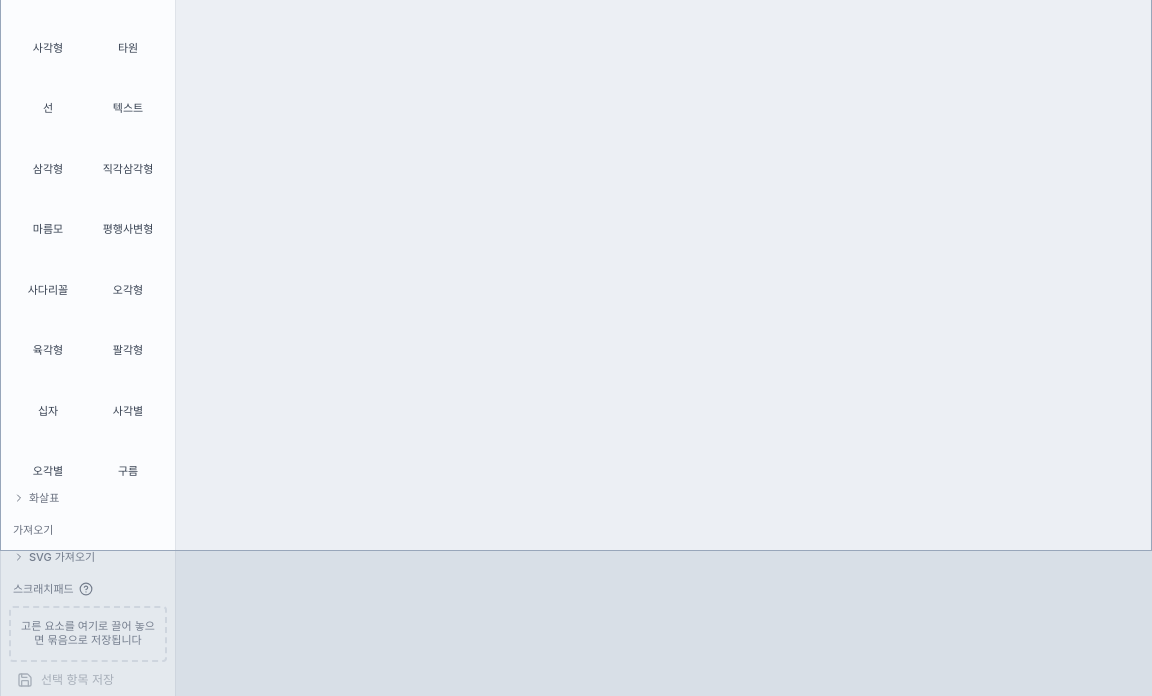
Test: 묶음 머리 · 안내 · 파일 고르기가 **번역된 글자**를 낸다
(page scrolled)
Click the button with test id "canvas-svg-import-group" at (88, 557), box [9,544,167,569]
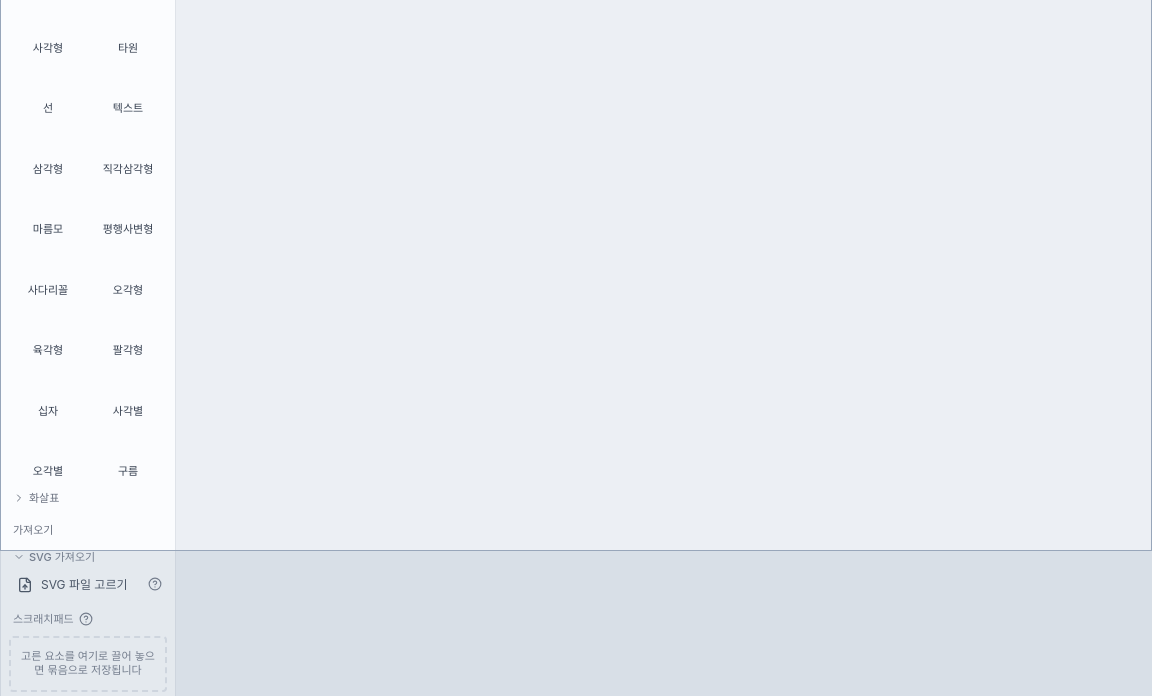
Result: the file field with test id "canvas-svg-import-pick" reads "SVG 파일 고르기" at [41,577,128,592]
